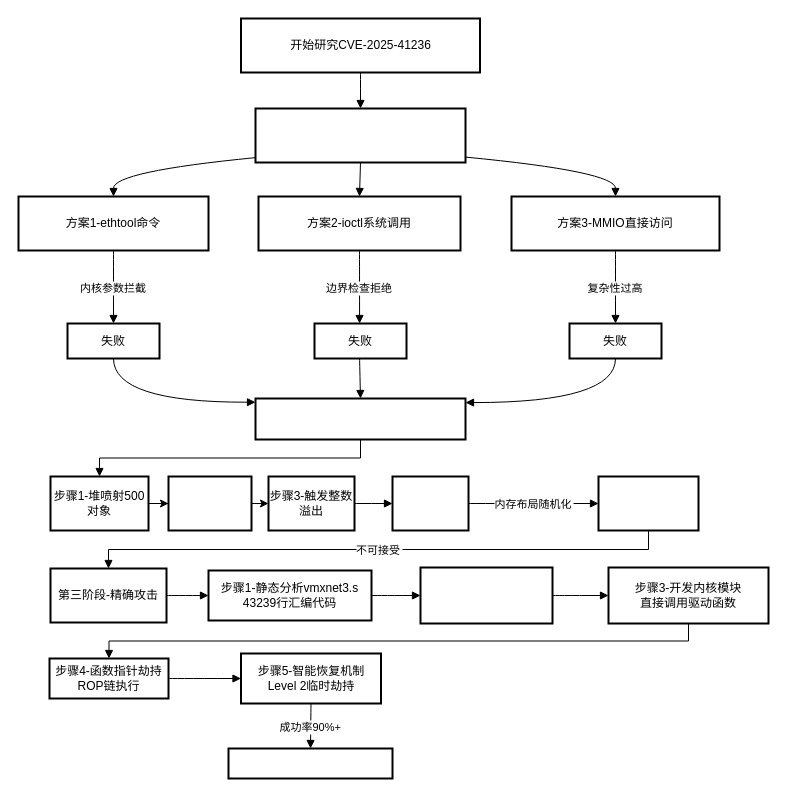
The diagram is 786 pixels wide and 796 high, and some of its shapes have lost their labels. Here are the shapes that lost their labels. From the top down, the centre of each, then its label:
the point at 360,135: 第一阶段-用户态尝试
the point at 360,418: 第二阶段-堆风水方法
the point at 209,503: 步骤2-创建166个空洞
the point at 430,503: 步骤4-期望命中ROP对象
the point at 648,503: 成功率仅35%
the point at 486,595: 步骤2-定位精确偏移 0x1048 ethtool_ops
the point at 310,763: 最终成功方案
